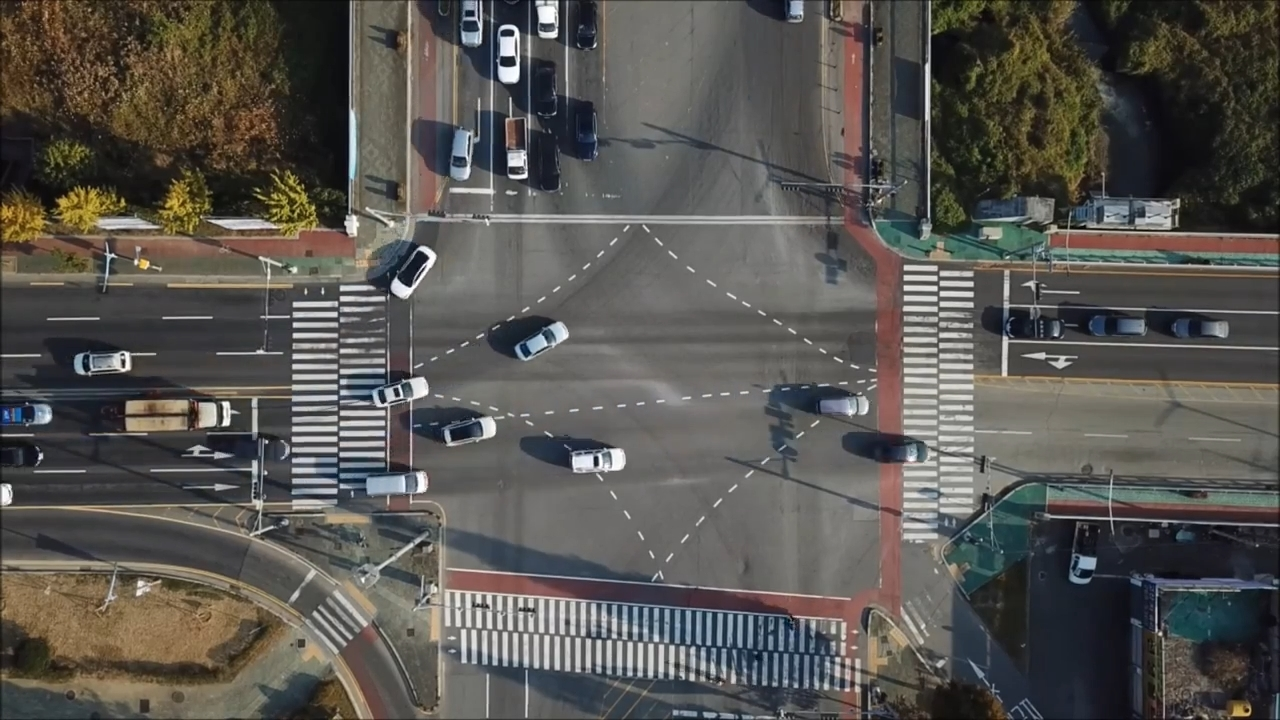car: (118, 395, 230, 431), (389, 243, 440, 299), (509, 321, 570, 363), (370, 373, 429, 409), (1067, 521, 1097, 586), (439, 416, 497, 449), (225, 436, 290, 464), (492, 21, 519, 85), (73, 350, 134, 378), (534, 124, 559, 189), (447, 123, 475, 181), (366, 470, 429, 495), (567, 448, 630, 473), (1002, 318, 1066, 342), (505, 117, 529, 179), (532, 55, 557, 114), (1091, 315, 1152, 339), (814, 391, 869, 416), (876, 440, 929, 465), (456, 1, 483, 50), (574, 102, 596, 162), (1169, 318, 1234, 338), (1, 405, 55, 429), (1, 441, 45, 467), (573, 1, 595, 50), (533, 1, 559, 36), (786, 1, 807, 25)
